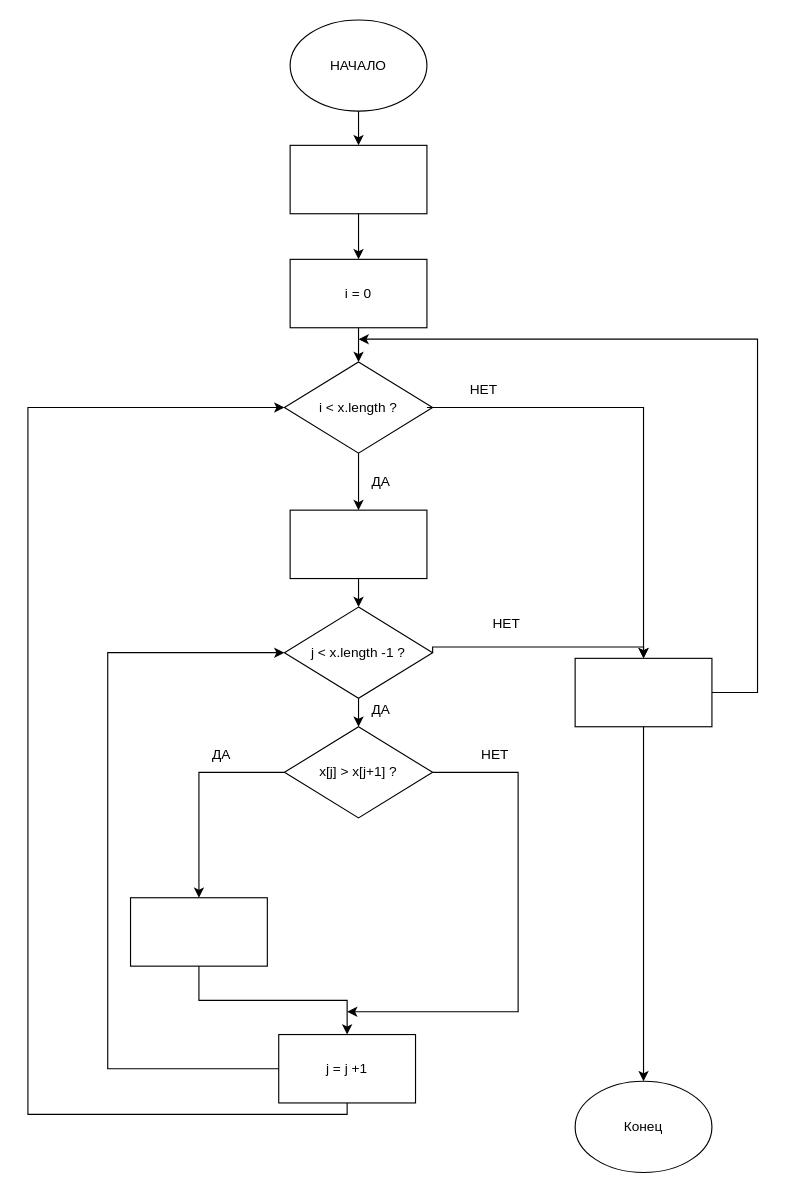
Some shapes in this 787 by 1192 pixel diagram are drawn without their labels. Here are the shapes that lost their labels. From the top down, the box of each, then its label:
(289, 144, 427, 214): Массив x[]
(289, 509, 427, 579): j = 0
(574, 657, 712, 727): i = i +1
(129, 897, 267, 966): меняются местами x[j] и x[j+1]
